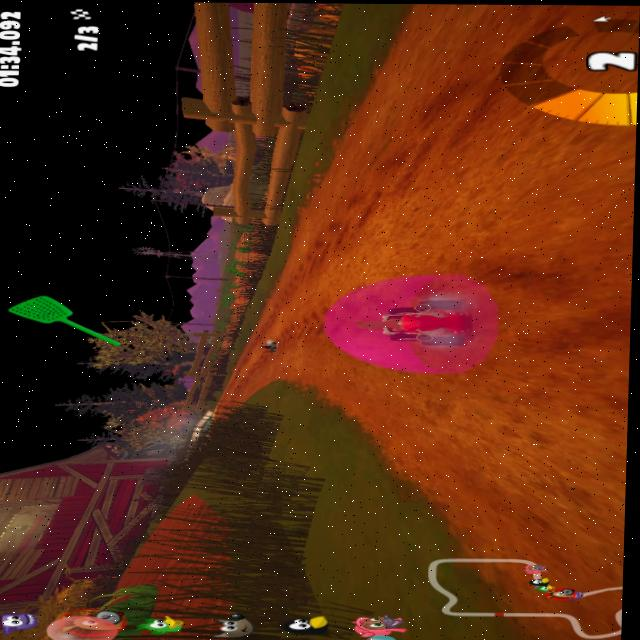track: (505, 5, 640, 376), (483, 378, 627, 640), (404, 4, 513, 271), (336, 121, 417, 279), (375, 375, 495, 456), (295, 220, 322, 390), (433, 451, 486, 526), (280, 251, 305, 350), (321, 368, 394, 399), (313, 182, 336, 280), (225, 358, 252, 400), (257, 356, 282, 384), (253, 310, 277, 339), (203, 397, 225, 415)
